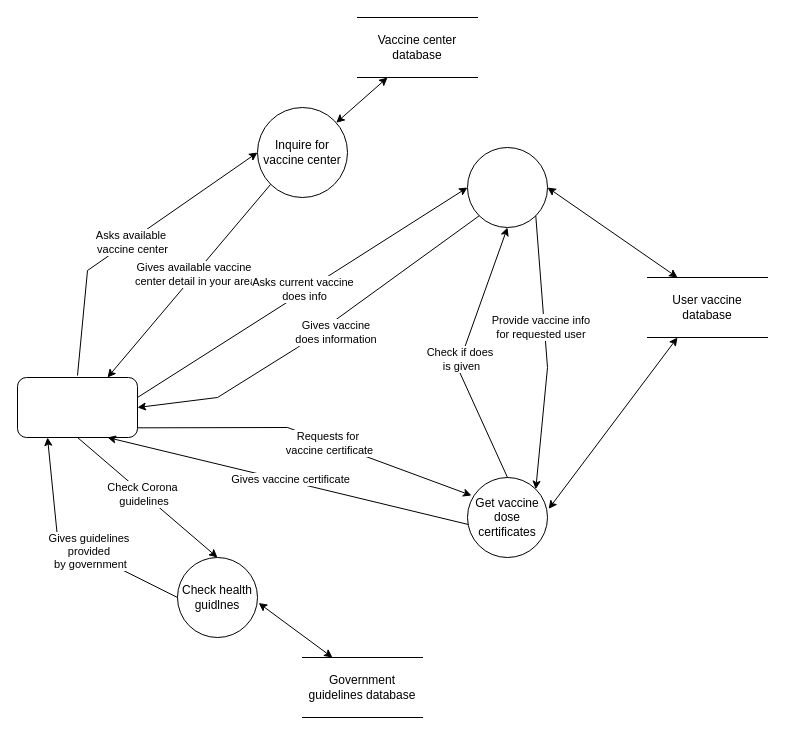
Some shapes in this 785 by 735 pixel diagram are drawn without their labels. Here are the shapes that lost their labels. From the top down, the centre of each, then its label:
At [507,187]: "Check for your doses info".
At [77,407]: "Citizens".
